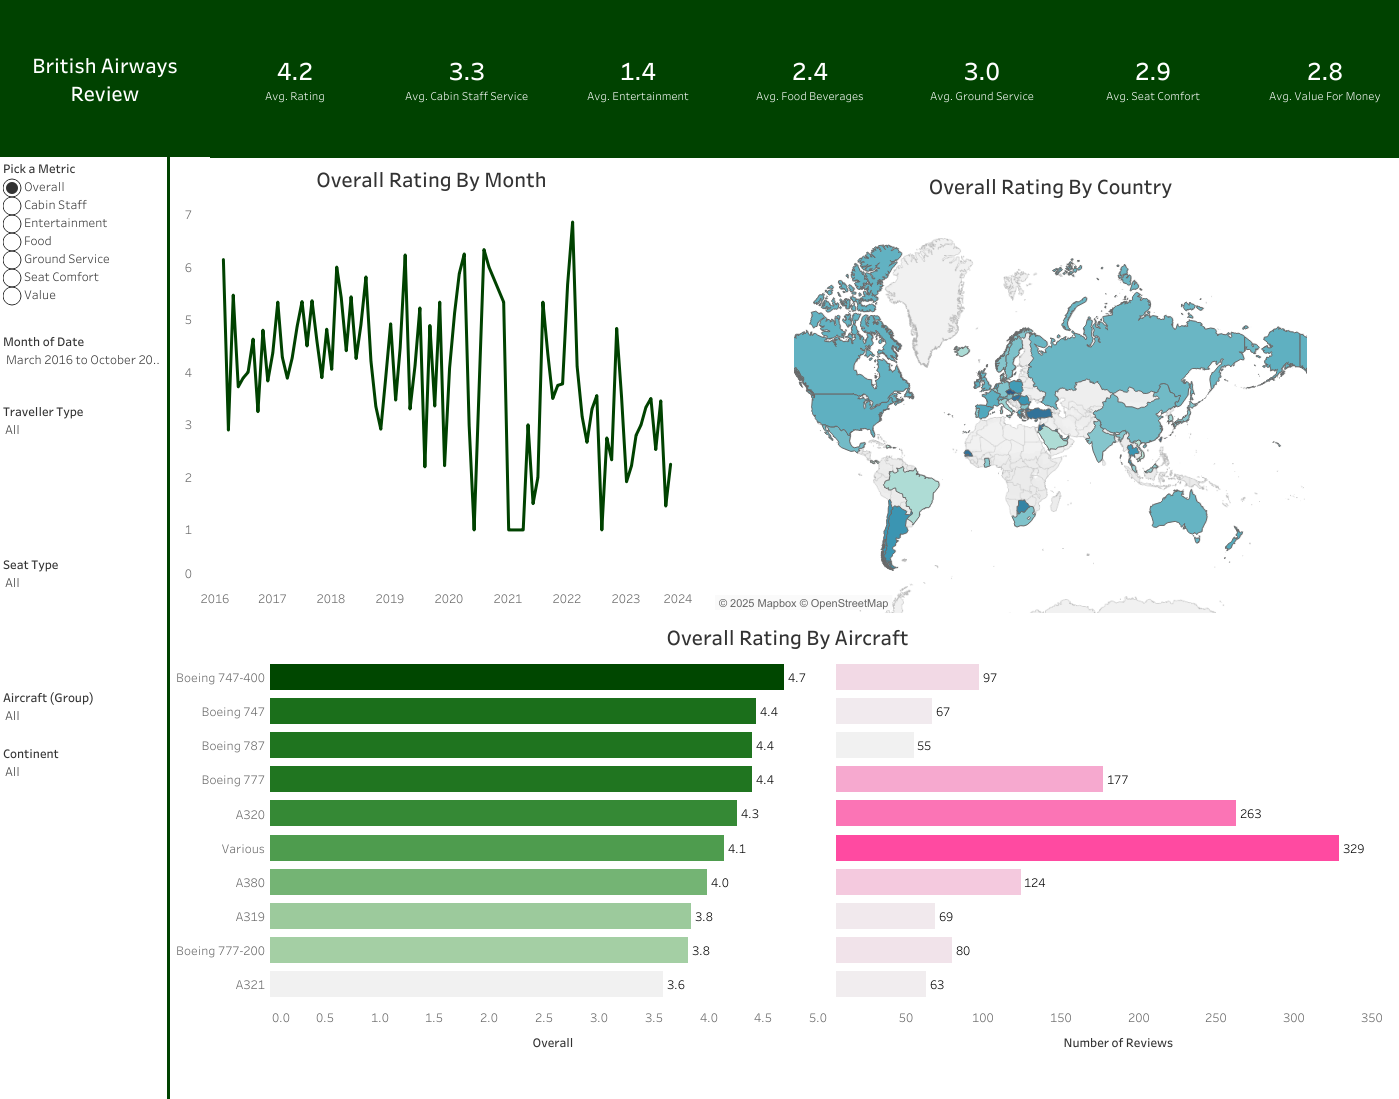

This screenshot's page, from the dashboard's own definition file:
{"tool":"tableau","page":{"name":"Dashboard","canvas":[1400,1100],"ordinal":0},"visuals":[{"type":"text","box":[0,0,210,157]},{"type":"blank","box":[167.3,157.1,3,947.6]},{"type":"worksheet","title":"Month","mark":"Automatic","rows":["Calculation_220394953872875520"],"cols":["date"],"box":[169,159,525,453]},{"type":"worksheet","title":"Map","mark":"Automatic","box":[707,162,687,455]},{"type":"worksheet","title":"Aircraft","mark":"Automatic","cols":["Calculation_220394953872875520","ba_reviews.csv_6D17130F6208448FB70CB6B5A4D89790"],"box":[170,617,1231,441]}]}

Visuals, with their boxes in screenshot pixels (x1, y1, x2, y2), scaled from the page's 1400x1100 canvas onto the 1399x1099 screenshot:
text: left=0, top=0, right=210, bottom=157
blank: left=167, top=157, right=170, bottom=1098
"Month" worksheet: left=169, top=159, right=694, bottom=611
"Map" worksheet: left=706, top=162, right=1393, bottom=616
"Aircraft" worksheet: left=170, top=616, right=1398, bottom=1057
